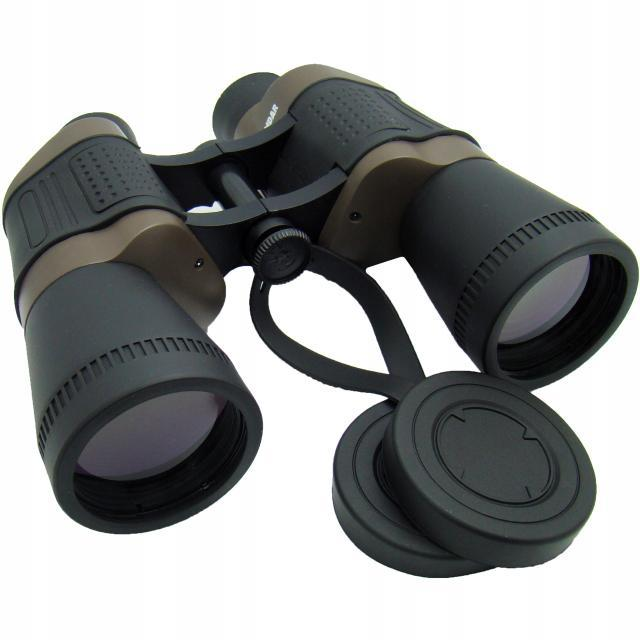Binocular: (5, 54, 636, 586)
